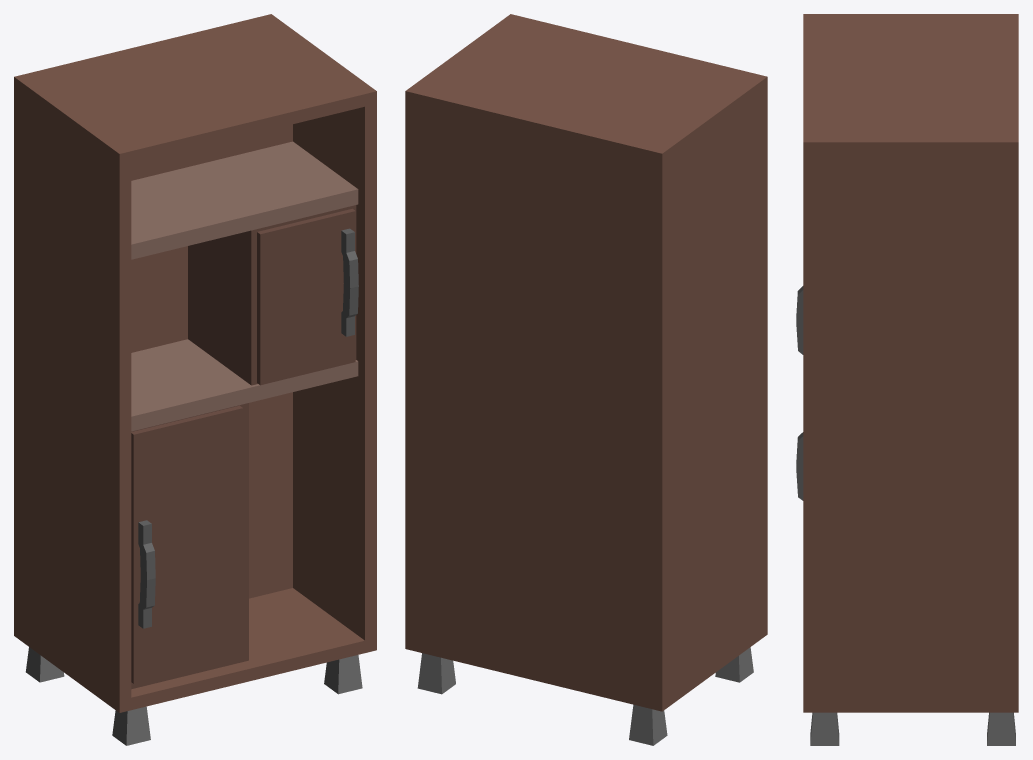
The model's file is Low_Poly_Bookshelf.glb.
3 views of the same model, side by side, from view 1: azimuth 30°, elevation 25°; view 2: azimuth 150°, elevation 25°; view 3: azimuth 270°, elevation 25° (orthographic). The views are drawn at different scales.
Visible parts, largest first — view 1: Book_Shelf_Fox.material_0; view 2: Book_Shelf_Fox.material_0; view 3: Book_Shelf_Fox.material_0.
Boxes of the visible parts, box(x1,y1,x2,y2) form: Book_Shelf_Fox.material_0: box(14, 14, 376, 745); Book_Shelf_Fox.material_0: box(405, 14, 767, 745); Book_Shelf_Fox.material_0: box(796, 14, 1018, 745).
Bounding box in the file's own units: 28.93 × 64.11 × 21.23.
Materials: 1 (1 with a texture image).
